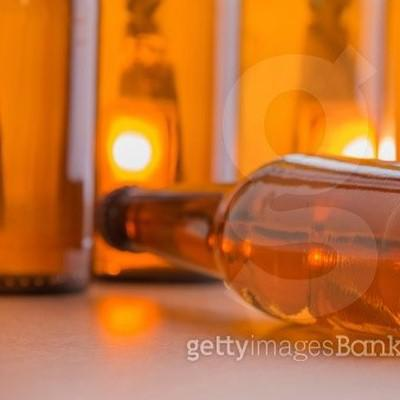beer: (96, 158, 400, 343)
